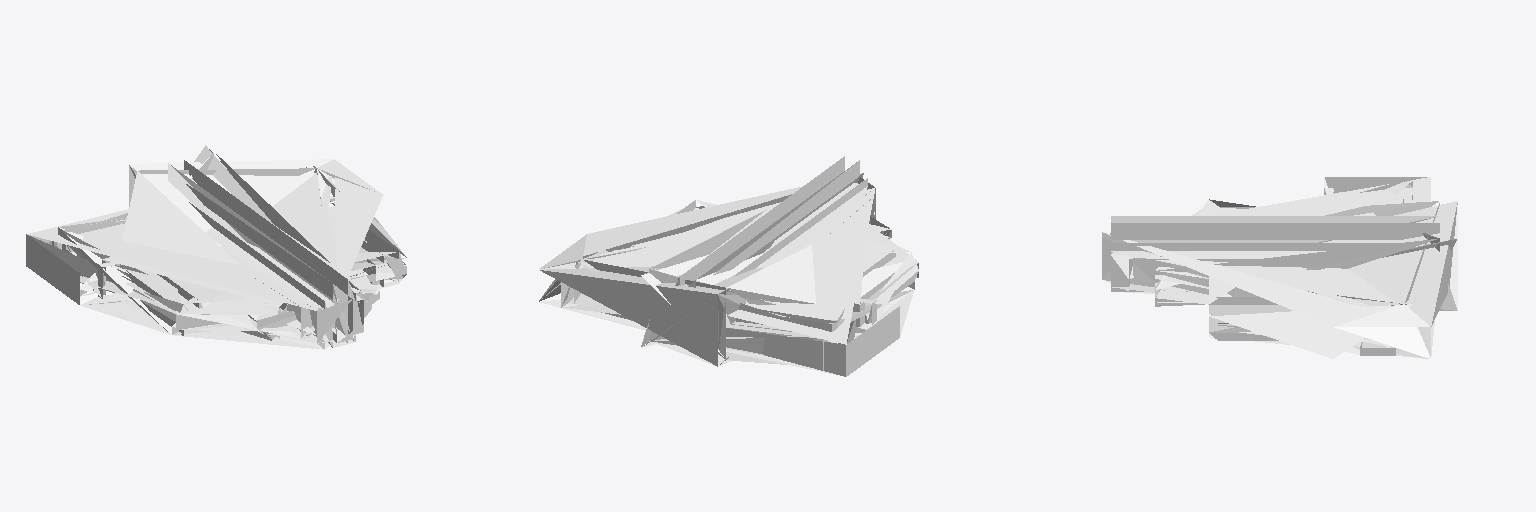
The model's file is SpaceShip2.obj.
The picture shows the model from 3 angles: view 1: azimuth 30°, elevation 25°; view 2: azimuth 150°, elevation 25°; view 3: azimuth 270°, elevation 25°; orthographic projection.
Visible parts, largest first — view 1: object 1; view 2: object 1; view 3: object 1.
Boxes of the visible parts, x1=… form: object 1: x1=26, y1=145, x2=406, y2=349; object 1: x1=539, y1=156, x2=918, y2=376; object 1: x1=1102, y1=177, x2=1457, y2=358.
Size of the model in its own units: 4 by 0.9 by 4.